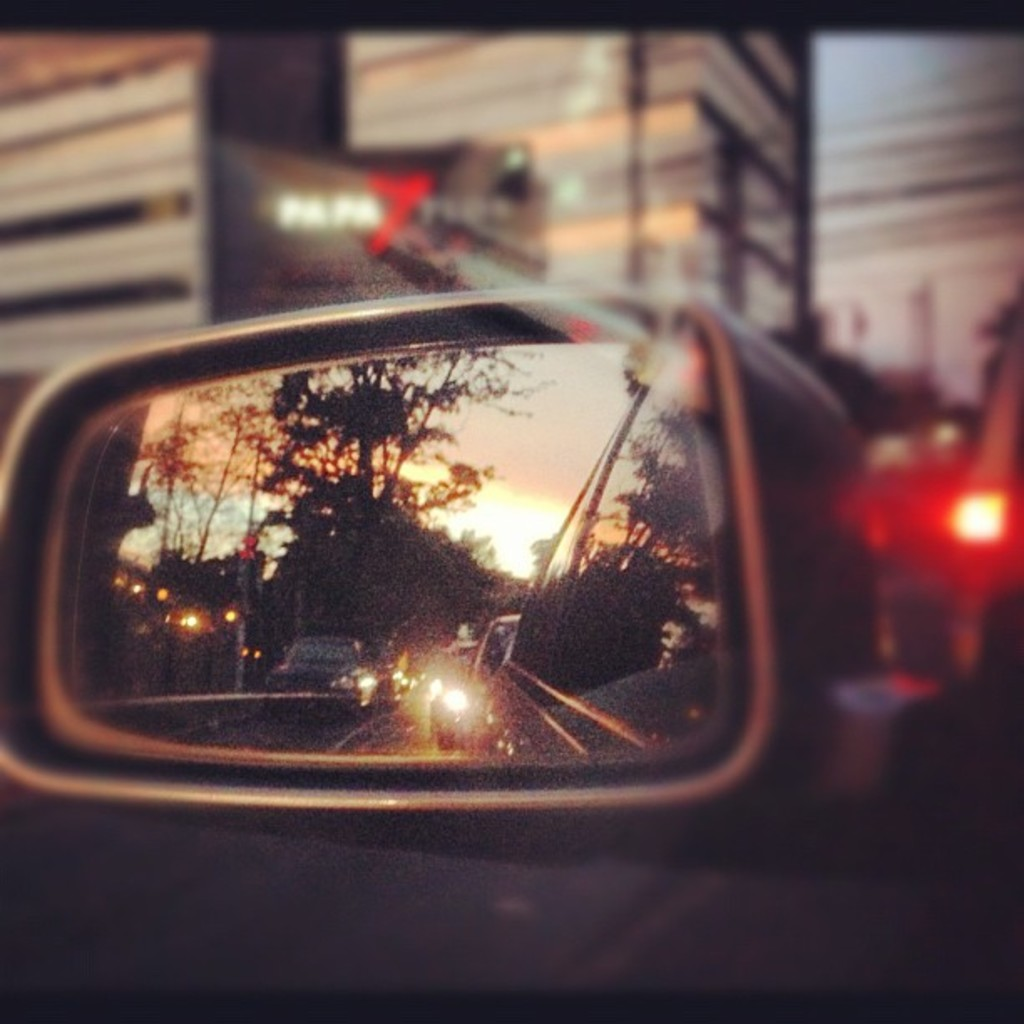Car: (0, 8, 1022, 1022)
